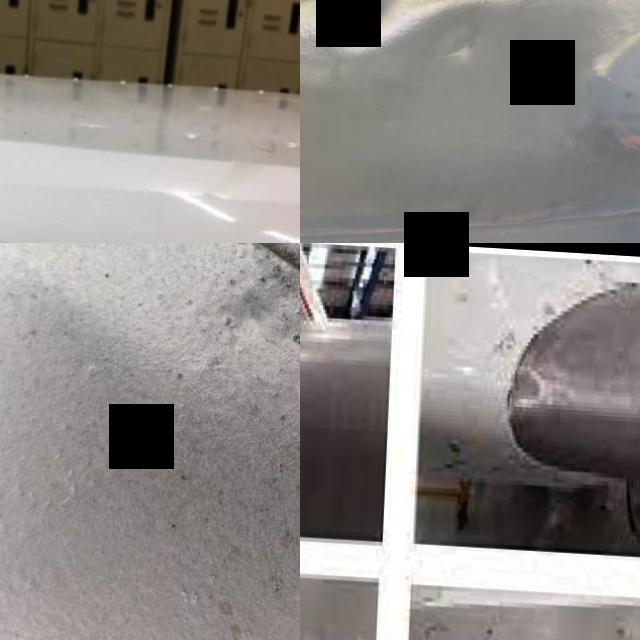Crack: (27, 212, 170, 243)
Dent: (428, 16, 497, 75), (313, 0, 411, 40), (507, 352, 553, 406)
